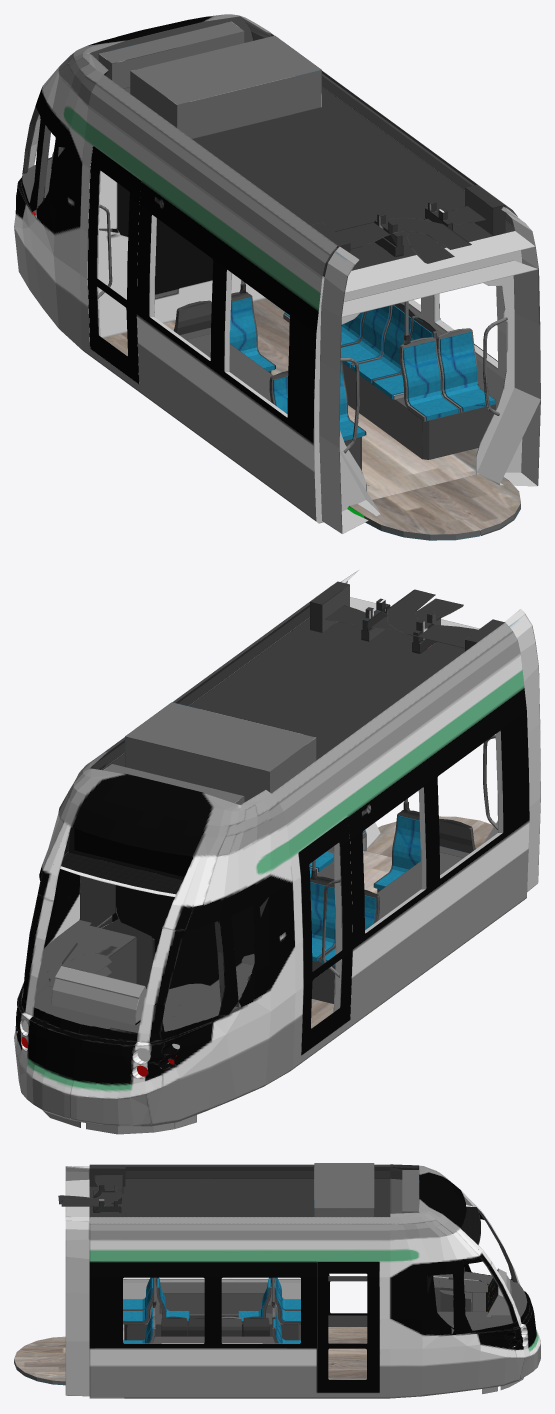
Rendered from backwardcaf.obj.
3 views of the same model, one above another, from view 1: azimuth 30°, elevation 25°; view 2: azimuth 150°, elevation 25°; view 3: azimuth 270°, elevation 25° (orthographic). The views are drawn at different scales.
Visible parts, largest first — view 1: ext, int, extint, art1floor, intfloor, extd; view 2: ext, int, extd, extint, intfloor, art1floor; view 3: ext, int, extint, extd2, art1floor, intfloor, extd.
Part boxes in pixels (x1=…): ext: x1=14, y1=14, x2=517, y2=521; int: x1=51, y1=146, x2=522, y2=523; extint: x1=319, y1=206, x2=540, y2=533; art1floor: x1=347, y1=474, x2=520, y2=540; intfloor: x1=90, y1=298, x2=478, y2=499; extd: x1=87, y1=146, x2=141, y2=383; ext: x1=14, y1=581, x2=529, y2=1134; int: x1=47, y1=730, x2=503, y2=1054; extd: x1=298, y1=817, x2=352, y2=1055; extint: x1=341, y1=570, x2=540, y2=892; intfloor: x1=311, y1=851, x2=391, y2=1028; art1floor: x1=367, y1=816, x2=493, y2=857; ext: x1=58, y1=1163, x2=540, y2=1398; int: x1=123, y1=1268, x2=511, y2=1343; extint: x1=65, y1=1166, x2=89, y2=1396; extd2: x1=317, y1=1262, x2=379, y2=1392; art1floor: x1=14, y1=1336, x2=65, y2=1385; intfloor: x1=123, y1=1327, x2=367, y2=1379; extd: x1=328, y1=1274, x2=367, y2=1326.
Bounding box in the file's own units: 2.95 × 3.85 × 9.65.
10 materials, 10 textured.
